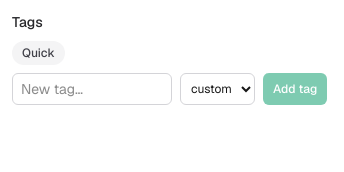
Test: TagPicker — inline tag creation › surfaces creation failures inline
The image size is (344, 172).
Type "Spicy" into the field with test id "tag-picker-new-name" at (92, 89), box [12,73,172,105]
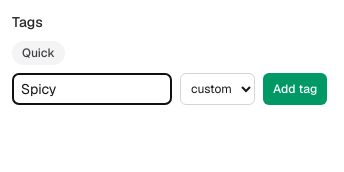
Click the button with test id "tag-picker-add" at (295, 89), box [263,73,327,105]
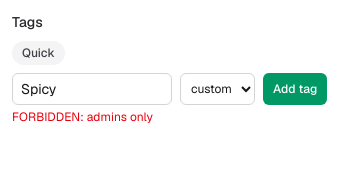
Expected: the message shows "admins only", [12,109,153,125]
